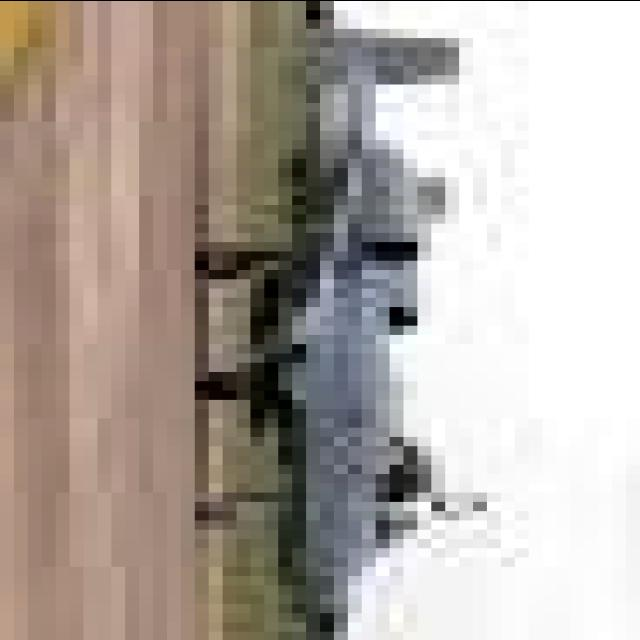A10: (134, 3, 511, 640)
